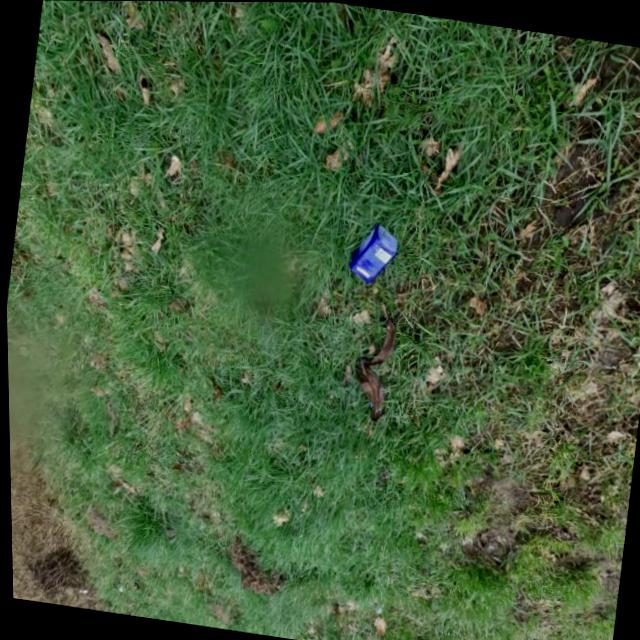Plastic: (345, 217, 400, 286)
